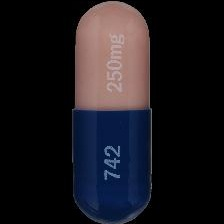17478-742: (0, 0, 224, 224)
